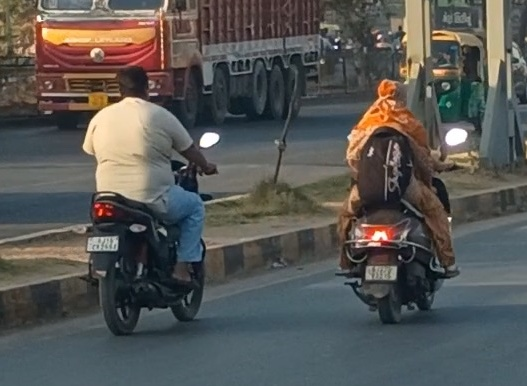BikeWithRider: (80, 62, 223, 337), (333, 76, 470, 327)
NoHelmet: (115, 63, 152, 105), (376, 77, 411, 113)
